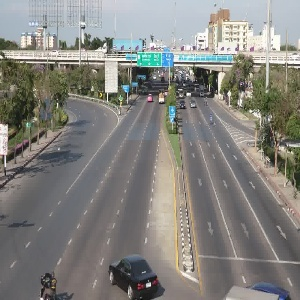car: (98, 254, 171, 299)
motorcycle: (31, 269, 70, 300)
